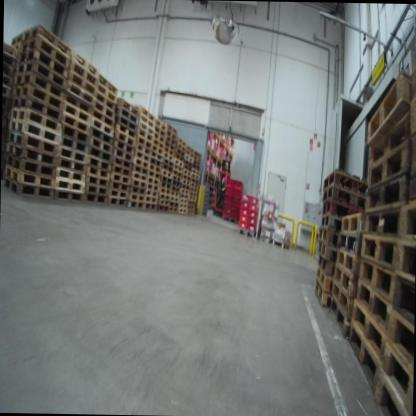forklift: (211, 160, 233, 220)
pallet: (360, 71, 409, 151), (350, 300, 383, 378), (381, 335, 413, 415), (348, 315, 380, 394), (360, 221, 406, 271), (364, 163, 408, 213), (353, 281, 396, 331), (356, 257, 393, 313), (369, 114, 407, 168), (366, 143, 408, 190), (372, 370, 413, 416), (362, 199, 403, 244), (23, 22, 70, 61), (21, 45, 68, 80), (316, 183, 365, 216), (387, 309, 413, 371), (5, 127, 58, 156), (20, 37, 67, 69), (15, 71, 63, 102), (11, 94, 62, 123), (13, 81, 62, 111), (390, 270, 413, 332), (6, 140, 56, 168), (13, 62, 66, 88), (10, 104, 60, 131), (9, 117, 59, 144), (4, 151, 54, 178), (322, 170, 363, 202), (6, 163, 54, 187), (4, 175, 54, 198), (65, 58, 99, 90), (64, 46, 99, 76), (339, 207, 366, 243), (393, 235, 414, 278), (397, 199, 415, 248), (328, 296, 350, 335), (335, 246, 358, 281), (62, 98, 93, 123), (333, 265, 357, 297), (330, 282, 350, 320), (68, 71, 96, 98), (317, 194, 348, 218), (396, 171, 416, 208), (62, 90, 92, 114), (62, 109, 90, 134), (57, 142, 87, 164), (335, 231, 360, 257), (60, 121, 89, 143), (59, 133, 89, 154), (65, 83, 94, 104), (96, 70, 118, 97), (94, 82, 118, 106), (402, 94, 416, 134), (403, 61, 416, 104), (114, 110, 138, 133), (53, 166, 85, 183), (314, 278, 329, 314), (90, 115, 114, 137), (114, 105, 138, 127), (55, 155, 86, 172), (85, 154, 112, 173), (314, 238, 336, 261), (117, 96, 138, 120), (318, 204, 344, 223), (402, 134, 415, 171), (91, 106, 115, 126), (56, 176, 85, 192), (315, 223, 336, 245), (114, 126, 136, 147), (87, 145, 112, 163), (52, 188, 84, 202), (88, 135, 114, 152), (315, 255, 335, 277), (96, 90, 116, 112), (89, 127, 114, 144), (94, 98, 115, 118), (114, 121, 135, 140), (316, 265, 330, 292), (85, 174, 110, 188), (114, 145, 133, 163), (85, 182, 109, 196), (86, 165, 111, 178), (137, 104, 155, 121), (4, 40, 20, 59), (109, 177, 128, 193), (137, 119, 153, 137), (111, 156, 131, 170), (110, 164, 131, 177), (138, 113, 155, 129), (3, 48, 16, 68), (132, 162, 149, 177), (239, 226, 257, 240), (114, 140, 132, 154), (110, 174, 131, 186), (135, 140, 151, 155), (136, 135, 152, 149), (3, 59, 15, 77), (127, 193, 145, 205), (134, 151, 149, 165), (108, 188, 127, 199), (137, 128, 153, 141), (84, 193, 107, 202), (106, 197, 126, 207), (132, 157, 148, 169), (125, 201, 146, 210), (132, 177, 146, 190), (3, 72, 12, 92), (132, 171, 149, 181), (150, 147, 162, 161), (148, 160, 160, 174), (128, 184, 146, 193), (154, 123, 166, 136), (148, 156, 161, 168), (146, 185, 158, 198), (144, 194, 158, 205), (144, 200, 157, 211), (155, 119, 166, 131), (153, 138, 164, 150), (151, 144, 163, 155), (159, 178, 170, 190), (166, 127, 176, 140), (166, 123, 177, 134), (147, 176, 159, 186), (162, 162, 172, 174), (153, 132, 164, 142), (147, 181, 158, 191), (163, 146, 174, 156), (161, 174, 171, 185), (164, 141, 174, 151), (161, 168, 171, 178), (3, 86, 12, 97), (148, 170, 160, 178), (157, 203, 169, 211), (165, 136, 174, 146), (164, 151, 173, 161), (164, 156, 172, 167), (158, 192, 169, 200), (158, 197, 168, 205), (3, 94, 8, 107), (160, 188, 169, 194)
